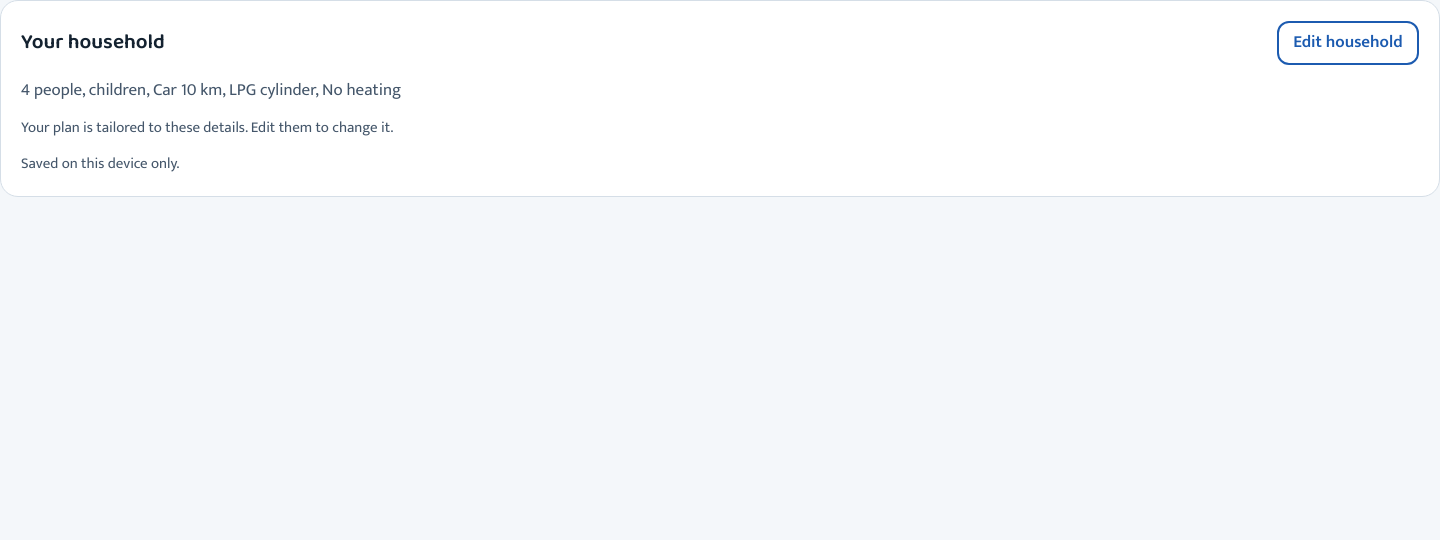
Scenario: ProfileForm loads its editor on demand › has no form until "Edit household" is opened, then shows a busy placeholder and the fields
This screenshot has width=1440, height=540.
Click the button "Edit household" at (1348, 43), box [1277,21,1419,65]
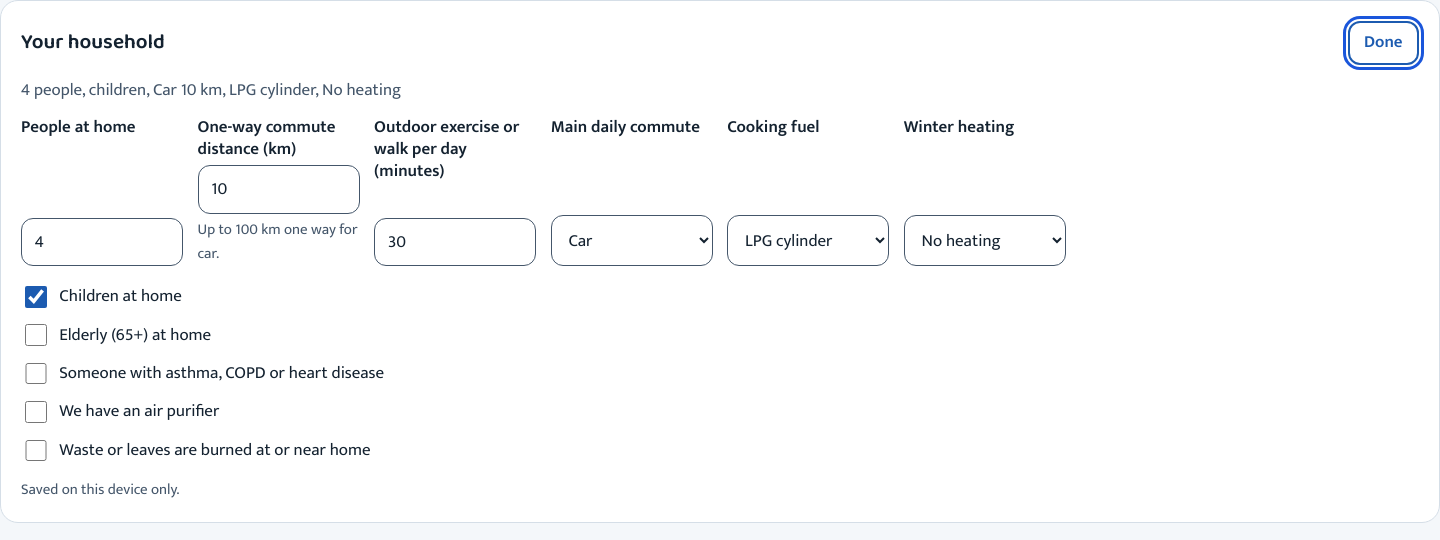
Expected: the number field labelled "People at home" is shown, [21,218,183,266]
Click the button "Done" at (1383, 43), box [1348,21,1419,65]
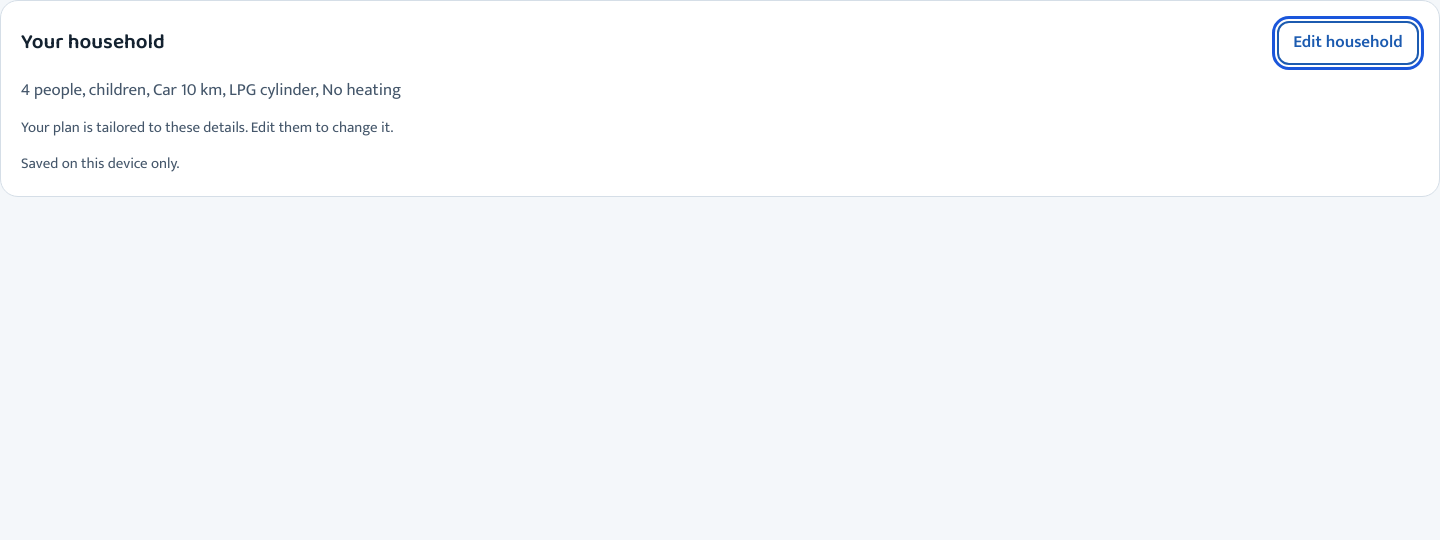
Expected: the form is gone
